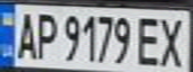1: (78, 11, 96, 63)
7: (93, 11, 115, 63)
9: (112, 12, 136, 65), (57, 10, 81, 62)
A: (12, 8, 39, 61)
E: (133, 12, 163, 66)
P: (33, 8, 60, 61)
X: (154, 12, 190, 69)
